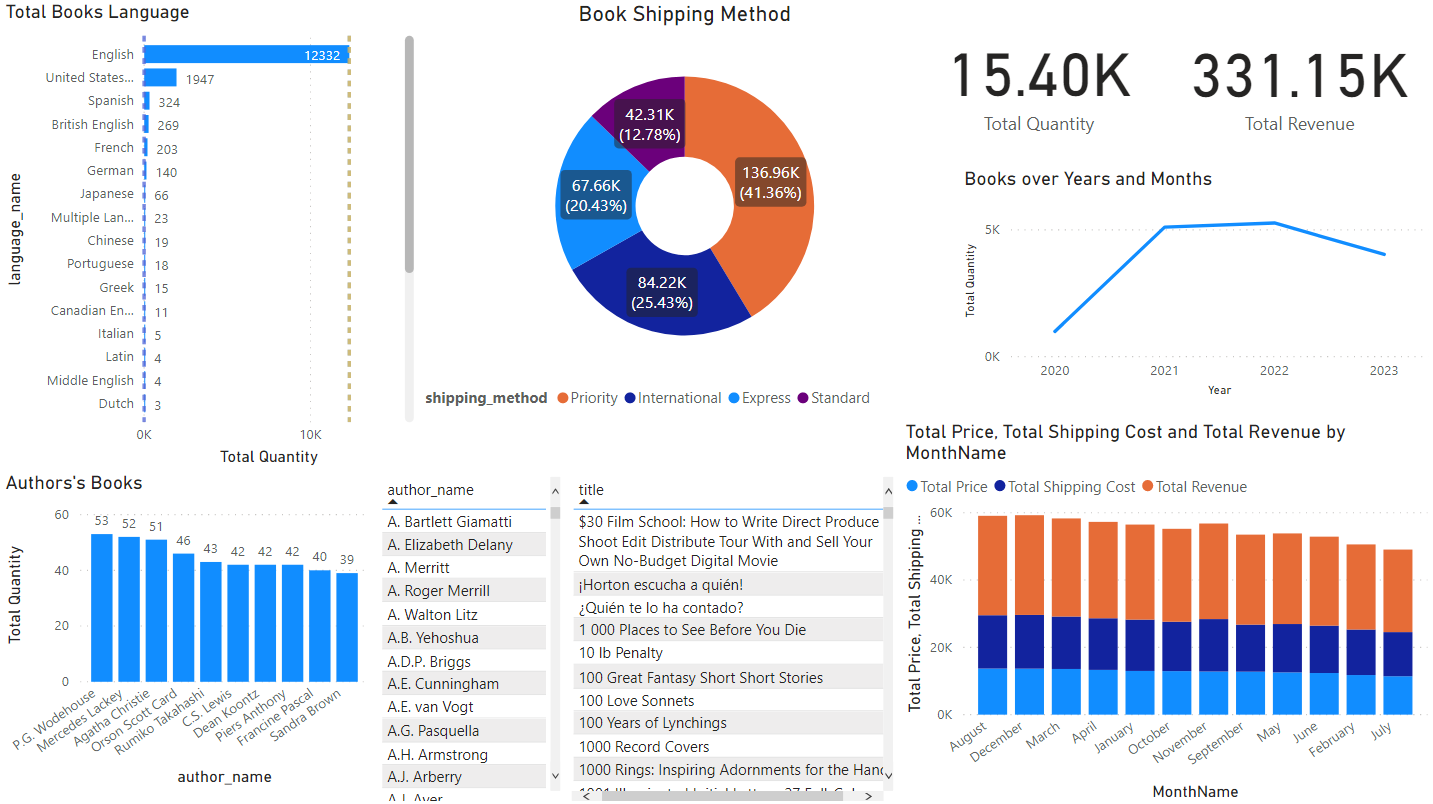

The dashboard page shown, as its layout file describes it:
{"tool":"powerbi","page":{"name":"Page 1","canvas":[1280,720],"ordinal":0},"visuals":[{"type":"card","fields":{"Values":["fact_book_sales.Total Revenue"]},"box":[1041.2,1.2,238.8,140.6],"z":0},{"type":"card","fields":{"Values":["fact_book_sales.Total Quantity"]},"box":[802.4,0,250.9,141.8],"z":1000},{"type":"donutChart","title":"Book Shipping Method","fields":{"Y":["fact_book_sales.Total Revenue"],"Series":["dim_shipping.shipping_method"]},"box":[374.5,1.2,472.7,373.3],"z":2000},{"type":"columnChart","fields":{"Category":["dim_date.MonthName","dim_date.Year"],"Y":["fact_book_sales.Total Price","fact_book_sales.Total Shipping Cost","fact_book_sales.Total Revenue"]},"box":[803.4,374.9,476.6,344.7],"z":3000},{"type":"lineChart","title":"Books over Years and Months","fields":{"Category":["dim_date.Year","dim_date.MonthName"],"Y":["fact_book_sales.Total Quantity"]},"box":[855.9,149.6,424.1,209.4],"z":4000},{"type":"clusteredBarChart","title":"Total Books Language","fields":{"Category":["dim_book.language_name"],"Y":["fact_book_sales.Total Quantity"]},"box":[0,0,374.5,420.6],"z":5000},{"type":"clusteredColumnChart","title":"Authors''s Books","fields":{"Category":["dim_book.author_name"],"Y":["fact_book_sales.Total Quantity"]},"box":[0,420.6,334.5,286.1],"z":6000},{"type":"tableEx","fields":{"Values":["dim_book.author_name"]},"box":[334.5,420.6,170.9,299.4],"z":7000},{"type":"tableEx","fields":{"Values":["dim_book.title"]},"box":[505.5,420.6,297,299.4],"z":8000}]}

Visuals, with their boxes in screenshot pixels (x1, y1, x2, y2), scaled from the page's 1280x720 canvas onto the 1433x804 screenshot:
card - fact_book_sales.Total Revenue: {"x1": 1166, "y1": 1, "x2": 1432, "y2": 158}
card - fact_book_sales.Total Quantity: {"x1": 898, "y1": 0, "x2": 1179, "y2": 158}
"Book Shipping Method" donutChart: {"x1": 419, "y1": 1, "x2": 948, "y2": 418}
columnChart - dim_date.MonthName x dim_date.Year: {"x1": 899, "y1": 419, "x2": 1432, "y2": 803}
"Books over Years and Months" lineChart: {"x1": 958, "y1": 167, "x2": 1432, "y2": 401}
"Total Books Language" clusteredBarChart: {"x1": 0, "y1": 0, "x2": 419, "y2": 470}
"Authors''s Books" clusteredColumnChart: {"x1": 0, "y1": 470, "x2": 374, "y2": 789}
tableEx - dim_book.author_name: {"x1": 374, "y1": 470, "x2": 566, "y2": 803}
tableEx - dim_book.title: {"x1": 566, "y1": 470, "x2": 898, "y2": 803}
